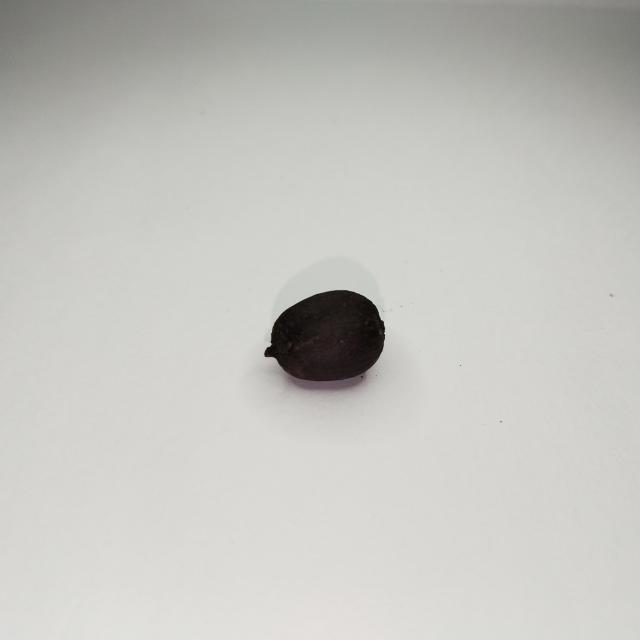Danado: (266, 290, 384, 381)
